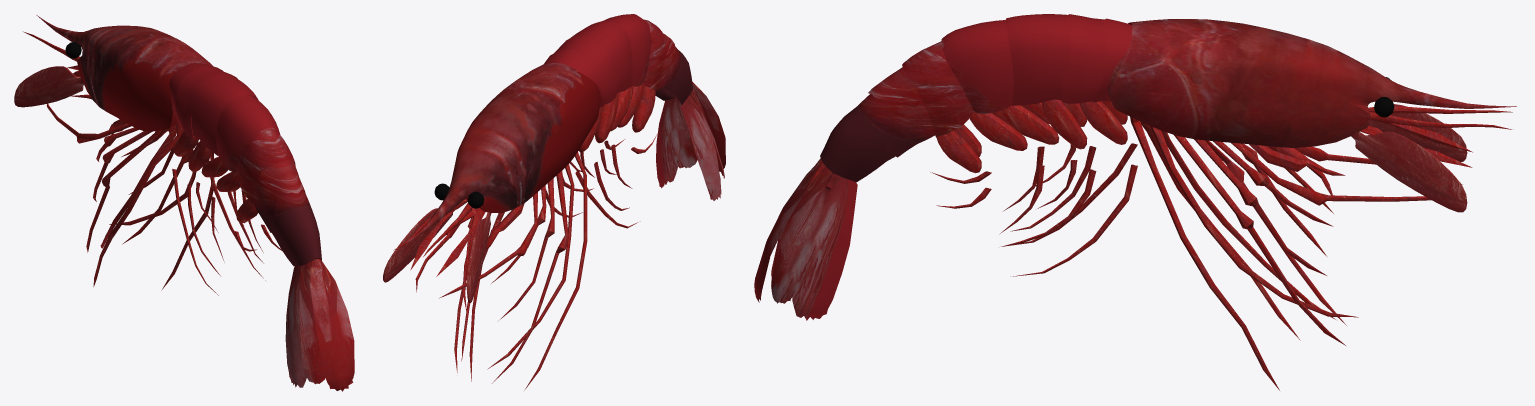
The model's file is _hrimp.fbx.
3 renders of one model, left to right at view 1: azimuth 30°, elevation 25°; view 2: azimuth 150°, elevation 25°; view 3: azimuth 270°, elevation 25°, orthographic. The views are drawn at different scales.
Visible parts, largest first — view 1: LPRMAIN, LPRTa3, LPRBOD10, LPRBOD04, LPRBOD03, LPRBOD05, LPRAnt, LPRBOD06, LPRTai2, LPRTai1, LPRBOD02, LPRLgL07 (+16 smaller); view 2: LPRMAIN, LPRTai1, LPRBOD03, LPRTai5, LPRBOD02, LPRBOD04, LPRAnt1, LPRAnt, LPRBOD05, LPRLgL07, LPRLgL01, LPRLgL06 (+19 smaller); view 3: LPRMAIN, LPRBOD03, LPRBOD04, LPRTai5, LPRAnt1, LPRBOD10, LPRTai4, LPRBOD05, LPRBOD06, LPRBOD02, LPRLgR10, LPRLgR04 (+19 smaller).
Part boxes in pixels (bbox=[...]): LPRMAIN: bbox=[36, 15, 213, 131]; LPRTa3: bbox=[308, 259, 354, 391]; LPRBOD10: bbox=[271, 189, 321, 266]; LPRBOD04: bbox=[216, 95, 280, 172]; LPRBOD03: bbox=[190, 74, 258, 156]; LPRBOD05: bbox=[236, 129, 295, 204]; LPRAnt: bbox=[14, 66, 83, 107]; LPRBOD06: bbox=[253, 160, 305, 232]; LPRTai2: bbox=[299, 263, 325, 384]; LPRTai1: bbox=[285, 266, 306, 387]; LPRBOD02: bbox=[175, 66, 237, 137]; LPRLgL07: bbox=[93, 123, 183, 286]; LPRMAIN: bbox=[405, 63, 600, 243]; LPRTai1: bbox=[681, 94, 721, 200]; LPRBOD03: bbox=[571, 20, 632, 93]; LPRTai5: bbox=[656, 98, 679, 188]; LPRBOD02: bbox=[554, 35, 618, 104]; LPRBOD04: bbox=[604, 14, 651, 86]; LPRAnt1: bbox=[383, 208, 452, 282]; LPRAnt: bbox=[466, 212, 491, 302]; LPRBOD05: bbox=[643, 19, 665, 90]; LPRLgL07: bbox=[524, 152, 587, 390]; LPRLgL01: bbox=[492, 170, 568, 383]; LPRLgL06: bbox=[487, 164, 574, 369]; LPRMAIN: bbox=[1107, 19, 1516, 147]; LPRBOD03: bbox=[1005, 14, 1070, 105]; LPRBOD04: bbox=[941, 20, 1013, 113]; LPRTai5: bbox=[792, 175, 857, 320]; LPRAnt1: bbox=[1351, 131, 1467, 212]; LPRBOD10: bbox=[820, 94, 895, 182]; LPRTai4: bbox=[771, 166, 836, 303]; LPRBOD05: bbox=[902, 41, 974, 137]; LPRBOD06: bbox=[868, 67, 934, 157]; LPRBOD02: bbox=[1061, 14, 1106, 103]; LPRLgR10: bbox=[1130, 116, 1279, 390]; LPRLgR04: bbox=[1150, 125, 1358, 317].
Size of the model in its own units: 60.79 by 170 by 330.
Materials: 6 (5 with a texture image).
